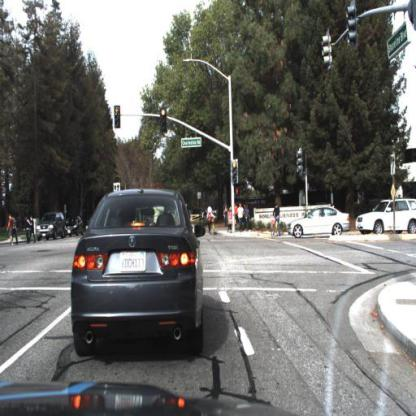biker: (206, 206, 220, 237), (271, 203, 282, 240)
car: (70, 185, 208, 360), (355, 198, 416, 240), (287, 203, 355, 240), (35, 209, 67, 242), (66, 212, 85, 239), (63, 216, 85, 237)
pedestrian: (206, 204, 220, 240), (7, 214, 16, 246), (237, 200, 245, 234), (23, 214, 31, 245), (30, 214, 38, 245), (244, 203, 252, 232), (226, 201, 233, 234), (25, 215, 31, 242)
trafficLight-Red: (159, 105, 168, 135), (231, 159, 241, 185)
trafficLight-RedLeft: (113, 103, 122, 130)
